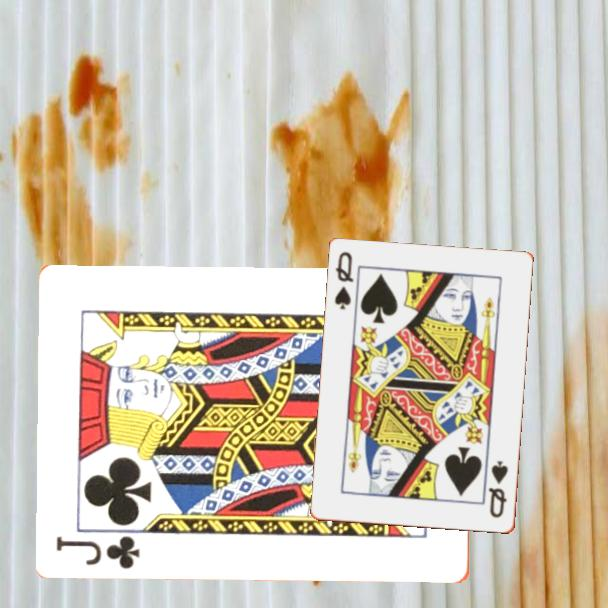c11: (53, 532, 143, 571)
s12: (331, 249, 357, 313), (485, 458, 511, 521)
